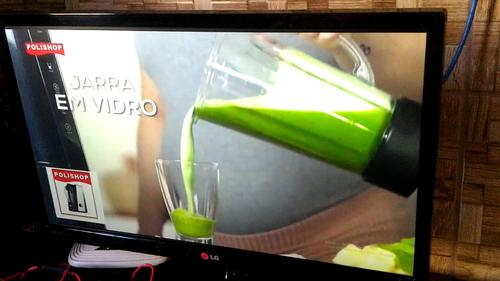Polishop #1: (45, 166, 107, 224)
